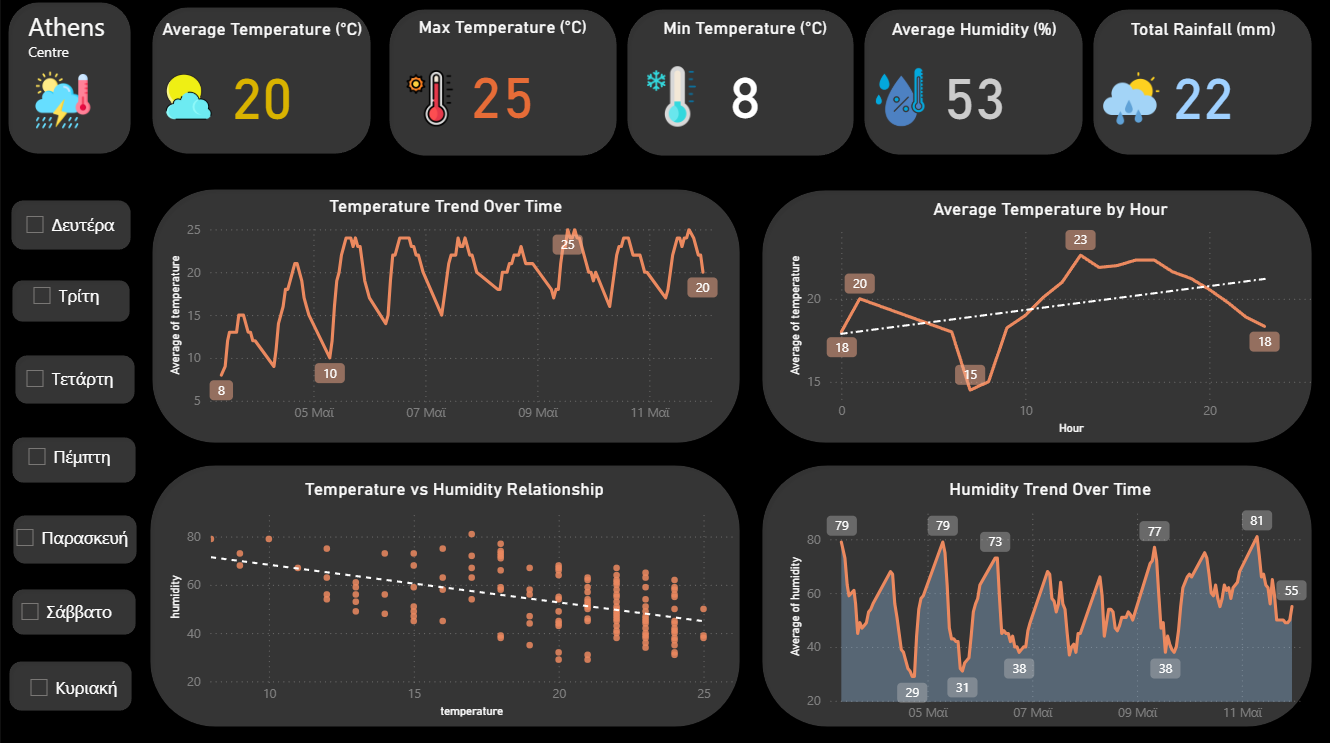

The dashboard page shown, as its layout file describes it:
{"tool":"powerbi","page":{"name":"Page 1","canvas":[1280,720],"ordinal":0},"visuals":[{"type":"shape","box":[2.9,0,127.6,155.4],"z":0},{"type":"shape","box":[726.4,180.4,537.3,252.4],"z":1000},{"type":"shape","box":[726.4,444.3,537.3,261],"z":2000},{"type":"shape","box":[6.7,266.7,122.8,49.9],"z":3000},{"type":"shape","box":[9.6,338.7,124.7,56.6],"z":4000},{"type":"shape","box":[6.7,417.4,128.6,53.7],"z":5000},{"type":"shape","box":[7.7,492.2,128.6,56.6],"z":6000},{"type":"shape","box":[3.8,632.3,127.6,57.6],"z":7000},{"type":"shape","box":[6.7,563.2,128.6,53.7],"z":8000},{"type":"shape","box":[5.8,190,124.7,57.6],"z":9000},{"type":"shape","box":[1044,6.7,219.7,149.7],"z":10000},{"type":"shape","box":[824.2,6.7,219.7,149.7],"z":11000},{"type":"shape","box":[596.8,6.7,227.4,150.6],"z":12000},{"type":"shape","box":[368.5,6.7,228.4,150.6],"z":13000},{"type":"shape","box":[141,4.8,219.7,150.6],"z":14000},{"type":"shape","box":[141,179.4,573.8,253.3],"z":15000},{"type":"shape","box":[139.1,444.3,575.7,261],"z":16000},{"type":"lineChart","title":"Temperature Trend Over Time","fields":{"Y":["Avg(weather_data.temperature)"],"Category":["weather_data.timestamp"]},"box":[157.4,190,541.2,227.4],"z":17000},{"type":"lineChart","title":"Average Temperature by Hour","fields":{"Category":["weather_data.Hour"],"Y":["Avg(weather_data.temperature)"]},"box":[752.3,192.9,511.4,231.2],"z":18000},{"type":"areaChart","title":"Humidity Trend Over Time","fields":{"Category":["weather_data.timestamp"],"Y":["Avg(weather_data.humidity)"]},"box":[752.3,461.5,511.4,243.7],"z":19000},{"type":"card","title":"Average Temperature (°C)","fields":{"Values":["Avg(weather_data.temperature)"]},"box":[147.8,20.1,207.3,122.8],"z":20000},{"type":"card","title":"Max Temperature (°C)","fields":{"Values":["Max(weather_data.temperature)"]},"box":[372.3,18.2,219.7,124.7],"z":21000},{"type":"card","title":"Average Humidity (%)","fields":{"Values":["Avg(weather_data.humidity)"]},"box":[837.7,20.1,193.8,123.8],"z":22000},{"type":"card","title":"Total Rainfall (mm)","fields":{"Values":["Sum(weather_data.rain_mm)"]},"box":[1065.1,20.1,178.5,123.8],"z":23000},{"type":"scatterChart","title":"Temperature vs Humidity Relationship","fields":{"X":["weather_data.temperature"],"Y":["weather_data.humidity"]},"box":[157.4,461.5,557.5,234.1],"z":24000},{"type":"card","title":"Min Temperature (°C)","fields":{"Values":["Min(weather_data.temperature)"]},"box":[608.3,19.2,213,123.8],"z":25000},{"type":"slicer","fields":{"Values":["weather_data.Day Name"]},"box":[12.5,198.6,107.5,40.3],"z":26000},{"type":"slicer","fields":{"Values":["weather_data.Day Name"]},"box":[16.3,642.9,106.5,39.3],"z":27000},{"type":"slicer","fields":{"Values":["weather_data.Day Name"]},"box":[2.9,499,128.6,44.1],"z":28000},{"type":"slicer","fields":{"Values":["weather_data.Day Name"]},"box":[14.4,421.2,106.5,46.1],"z":29000},{"type":"slicer","fields":{"Values":["weather_data.Day Name"]},"box":[12.5,346.4,110.3,42.2],"z":30000},{"type":"slicer","fields":{"Values":["weather_data.Day Name"]},"box":[19.2,266.7,96.9,50.9],"z":31000},{"type":"slicer","fields":{"Values":["weather_data.Day Name"]},"box":[7.7,570,120.9,40.3],"z":32000},{"type":"textbox","box":[22.1,6.7,87.3,76.8],"z":33000},{"type":"image","box":[608.3,61.4,72,68.1],"z":34000},{"type":"image","box":[372.3,65.2,79.6,64.3],"z":35000},{"type":"image","box":[824.2,58.5,78.7,74.8],"z":36000},{"type":"image","box":[1031.5,65.2,108.4,64.3],"z":37000},{"type":"image","box":[27.8,65.2,65.2,66.2],"z":38000},{"type":"image","box":[141,55.7,79.6,79.6],"z":39000}]}

Visuals, with their boxes in screenshot pixels (x1, y1, x2, y2), scaled from the page's 1280x720 canvas onto the 1330x743 screenshot:
shape: bbox(3, 0, 136, 160)
shape: bbox(755, 186, 1313, 447)
shape: bbox(755, 458, 1313, 728)
shape: bbox(7, 275, 135, 327)
shape: bbox(10, 350, 140, 408)
shape: bbox(7, 431, 141, 486)
shape: bbox(8, 508, 142, 566)
shape: bbox(4, 652, 137, 712)
shape: bbox(7, 581, 141, 637)
shape: bbox(6, 196, 136, 256)
shape: bbox(1085, 7, 1313, 161)
shape: bbox(856, 7, 1085, 161)
shape: bbox(620, 7, 856, 162)
shape: bbox(383, 7, 620, 162)
shape: bbox(147, 5, 375, 160)
shape: bbox(147, 185, 743, 447)
shape: bbox(145, 458, 743, 728)
"Temperature Trend Over Time" lineChart: bbox(164, 196, 726, 431)
"Average Temperature by Hour" lineChart: bbox(782, 199, 1313, 438)
"Humidity Trend Over Time" areaChart: bbox(782, 476, 1313, 728)
"Average Temperature (°C)" card: bbox(154, 21, 369, 147)
"Max Temperature (°C)" card: bbox(387, 19, 615, 147)
"Average Humidity (%)" card: bbox(870, 21, 1072, 148)
"Total Rainfall (mm)" card: bbox(1107, 21, 1292, 148)
"Temperature vs Humidity Relationship" scatterChart: bbox(164, 476, 743, 718)
"Min Temperature (°C)" card: bbox(632, 20, 853, 148)
slicer - weather_data.Day Name: bbox(13, 205, 125, 247)
slicer - weather_data.Day Name: bbox(17, 663, 128, 704)
slicer - weather_data.Day Name: bbox(3, 515, 137, 560)
slicer - weather_data.Day Name: bbox(15, 435, 126, 482)
slicer - weather_data.Day Name: bbox(13, 357, 128, 401)
slicer - weather_data.Day Name: bbox(20, 275, 121, 328)
slicer - weather_data.Day Name: bbox(8, 588, 134, 630)
textbox: bbox(23, 7, 114, 86)
image: bbox(632, 63, 707, 134)
image: bbox(387, 67, 470, 134)
image: bbox(856, 60, 938, 138)
image: bbox(1072, 67, 1184, 134)
image: bbox(29, 67, 97, 136)
image: bbox(147, 57, 229, 140)
